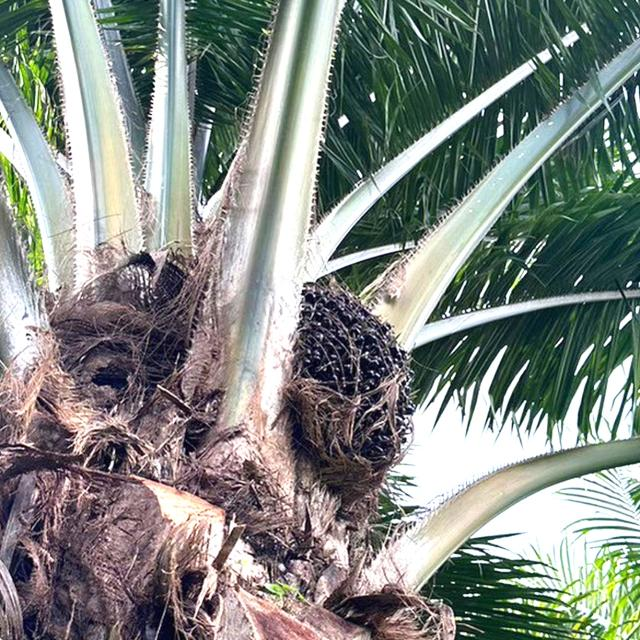unripe: (276, 271, 422, 501)
